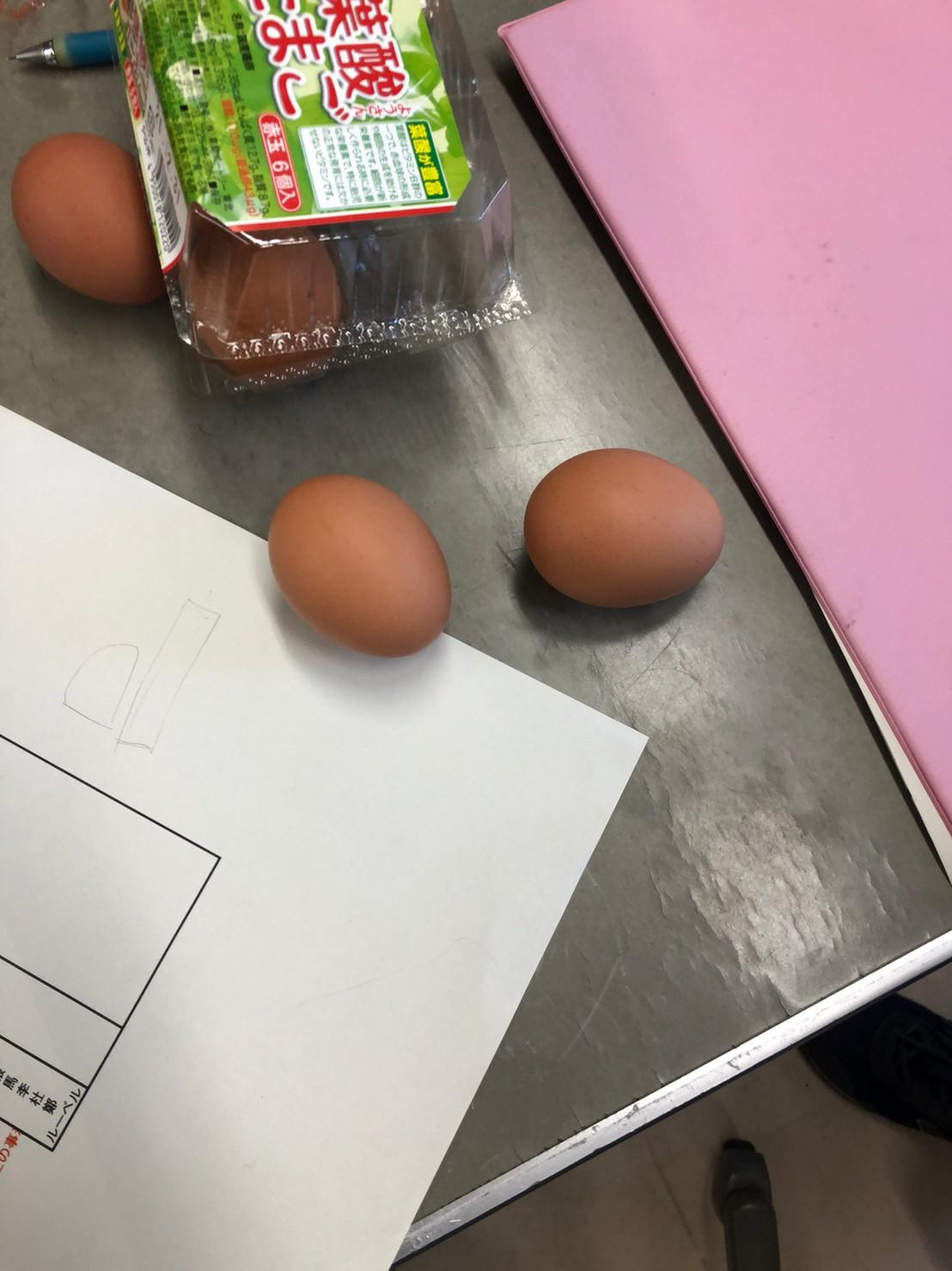egg: (261, 463, 452, 662), (514, 440, 725, 611), (7, 121, 162, 308)
